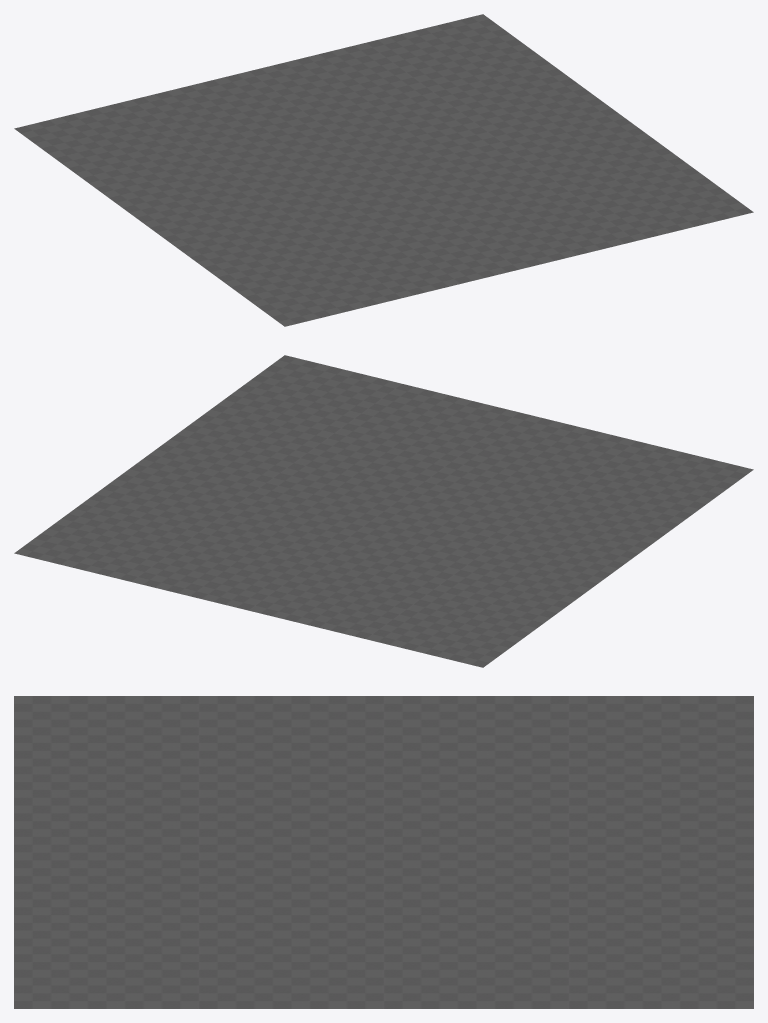
3 renders of one model, top to bottom at view 1: azimuth 30°, elevation 25°; view 2: azimuth 150°, elevation 25°; view 3: azimuth 270°, elevation 25°, orthographic. The views are drawn at different scales.
Visible parts, largest first — view 1: 0; view 2: 0; view 3: 0.
Part boxes in pixels (x1,y1,x2,y2): 0: [14, 14, 753, 326]; 0: [14, 355, 753, 667]; 0: [14, 696, 753, 1008].
Size of the model in its own units: 4 by 0 by 4.
Materials: 1 (1 with a texture image).
